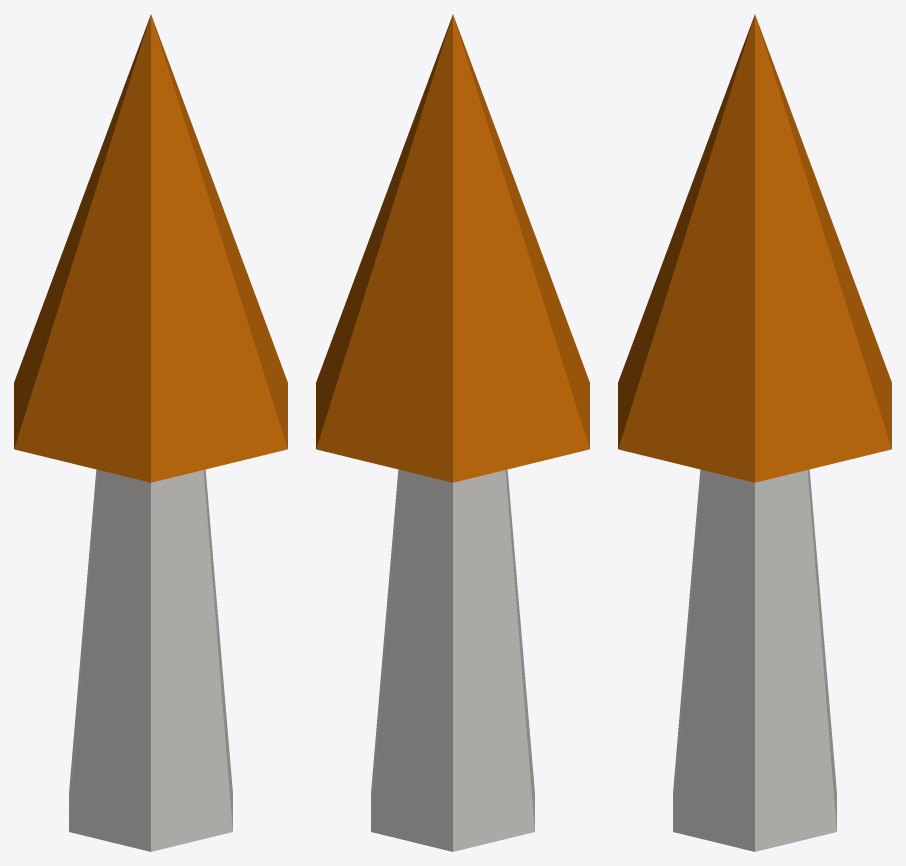
Rendered from Mushroom_Small.fbx.
3 renders of one model, left to right at view 1: azimuth 30°, elevation 25°; view 2: azimuth 150°, elevation 25°; view 3: azimuth 270°, elevation 25°, orthographic.
Visible parts, largest first — view 1: Mushroom_Small; view 2: Mushroom_Small; view 3: Mushroom_Small.
Part boxes in pixels (x1,y1,x2,y2): Mushroom_Small: (14, 14, 287, 851); Mushroom_Small: (316, 14, 589, 851); Mushroom_Small: (618, 14, 891, 851).
Bounding box in the file's own units: 0.3085 × 0.8591 × 0.2672.
